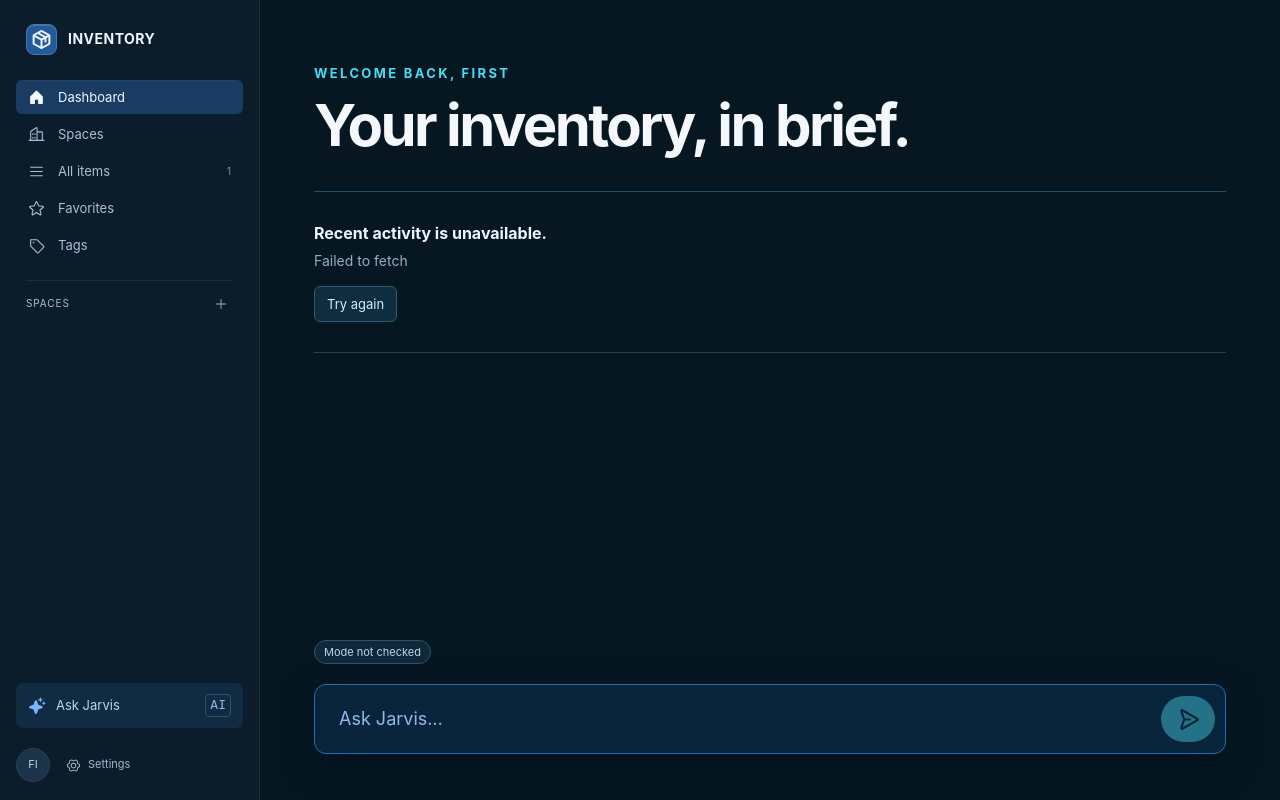
it: reports failed logout instead of claiming the session ended
The image size is (1280, 800).
Click the button "All items 1": (130,171) [16,154,243,188]
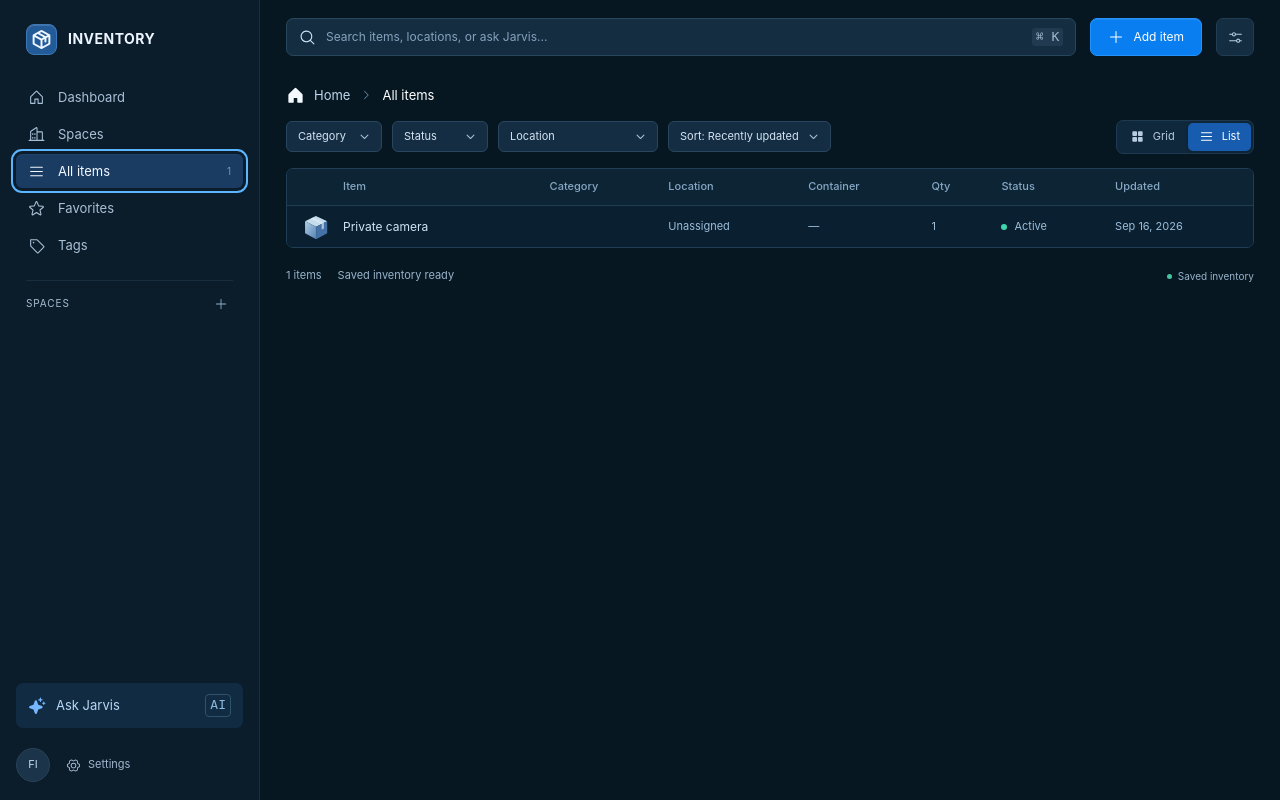
Expected: the button with aria-label "View Private camera" is shown, [299,210,526,244]
Click the heading "Settings": (98,765) [66,757,130,773]
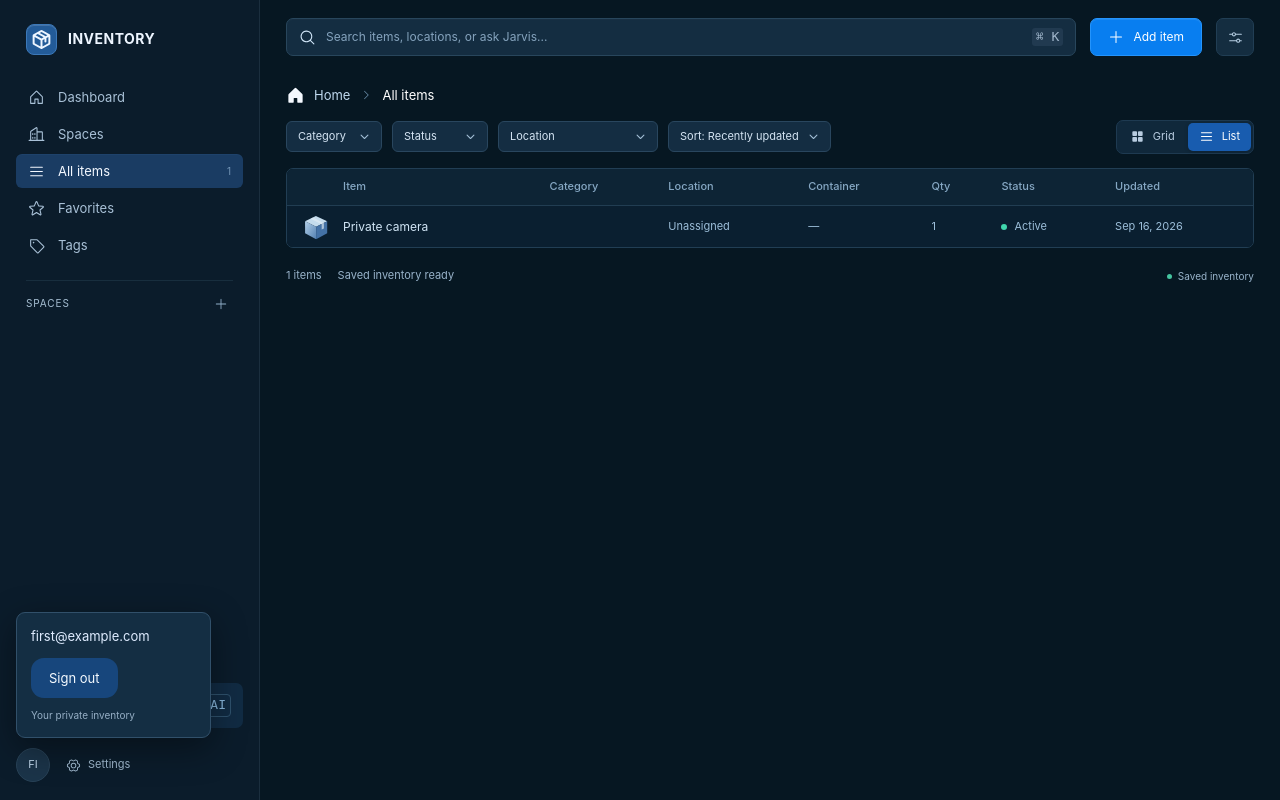
Click the button "Sign out": (74,678) [31,658,118,698]
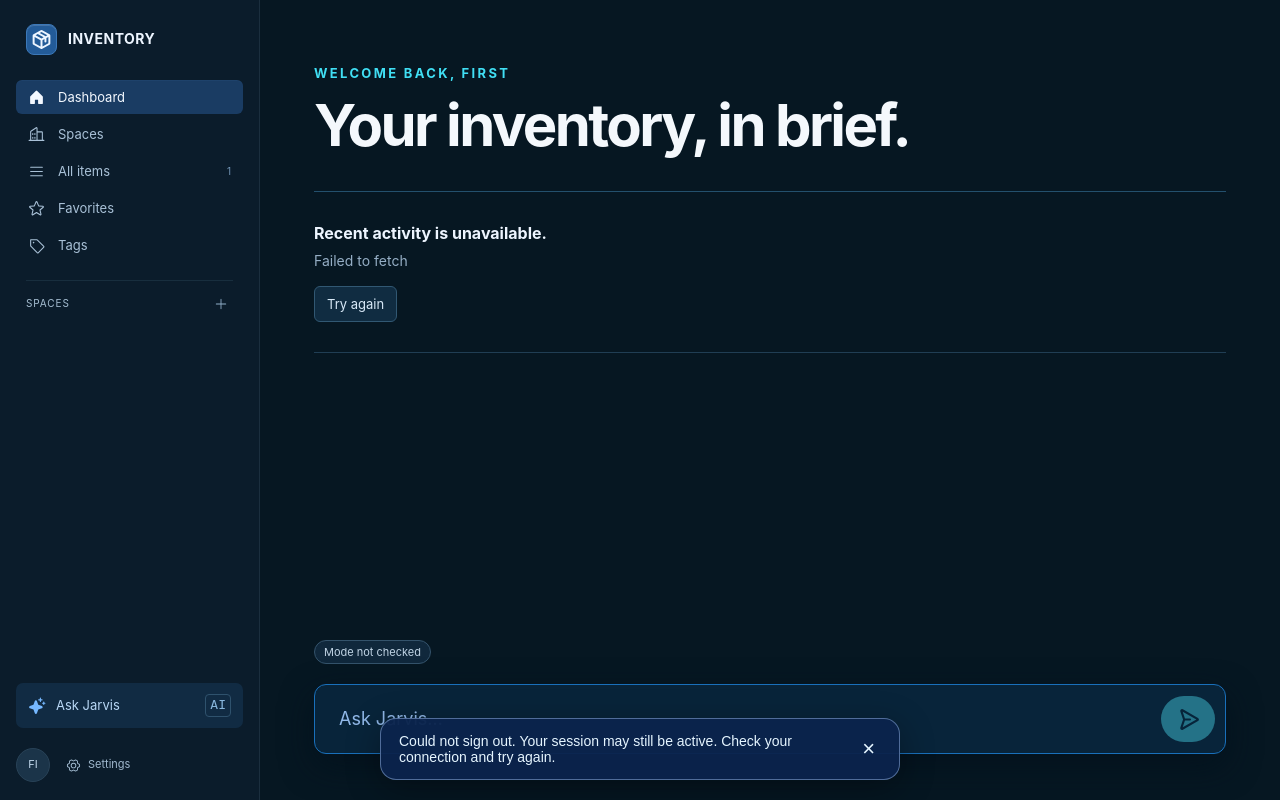
Expected: the 3rd message shows "Could not sign out", [399,733,792,765]
Click the button "All items 1": (130,171) [16,154,243,188]
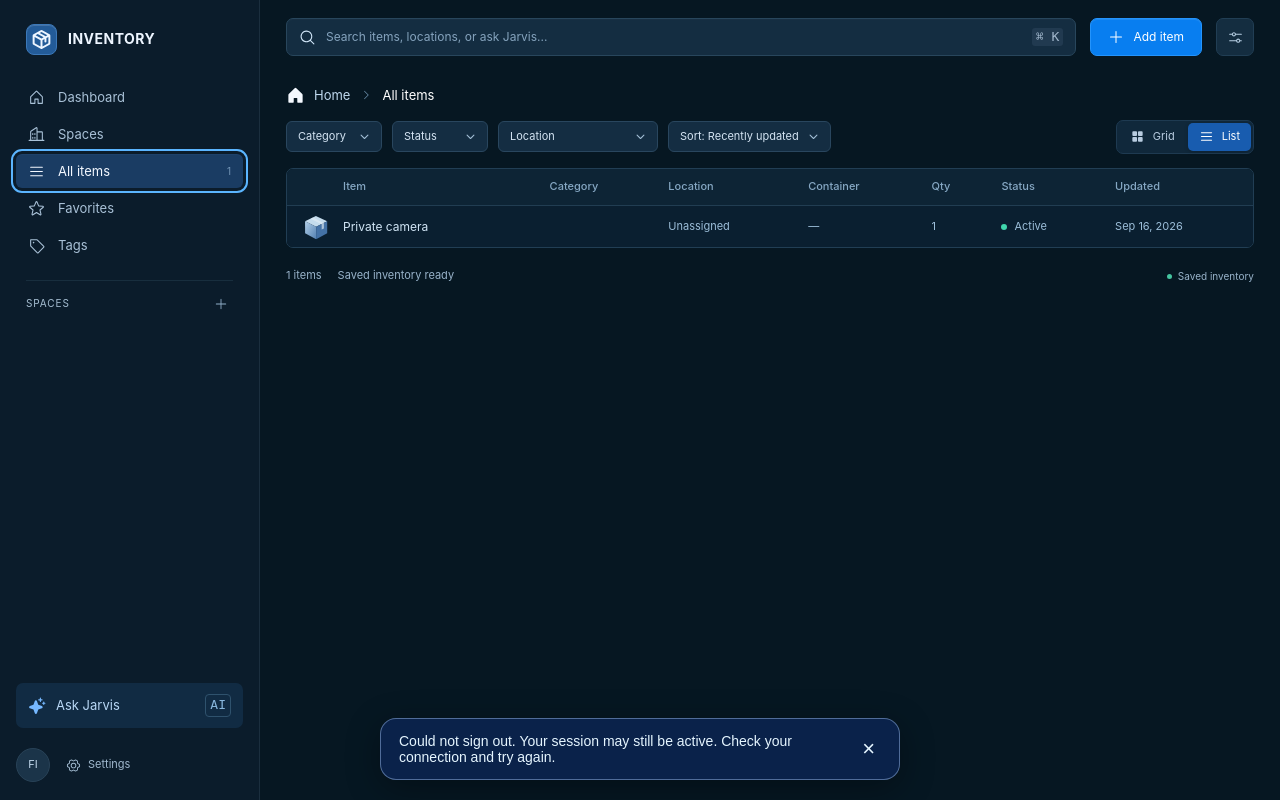
Expected: the button with aria-label "View Private camera" is shown, [299,210,526,244]
